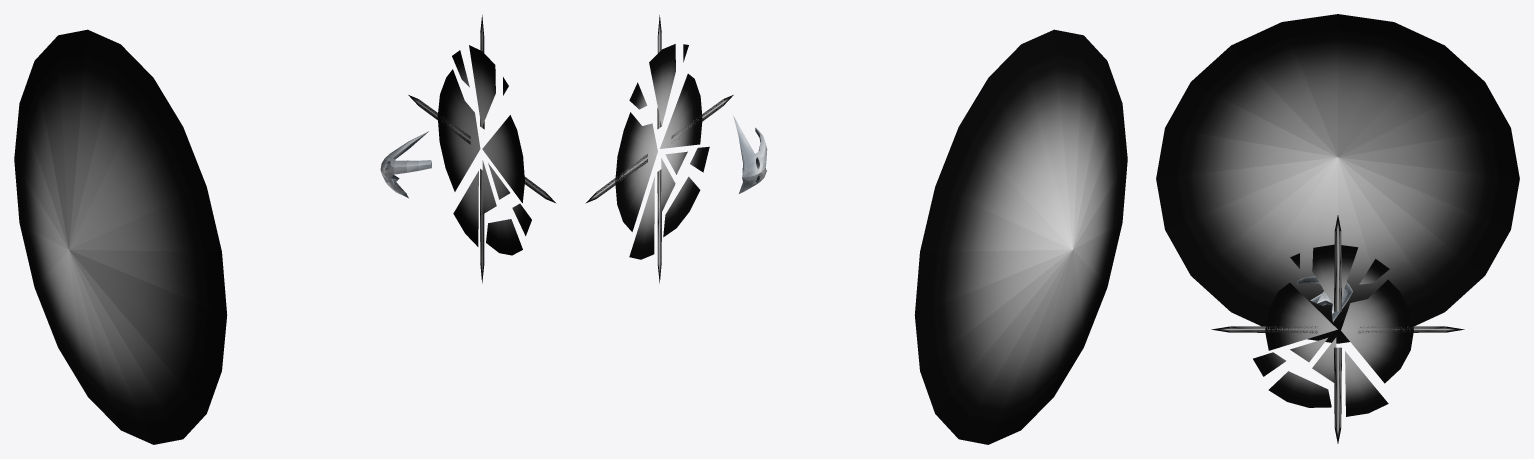
3 renders of one model, left to right at view 1: azimuth 30°, elevation 25°; view 2: azimuth 150°, elevation 25°; view 3: azimuth 270°, elevation 25°, orthographic. The views are drawn at different scales.
Visible parts, largest first — view 1: B_0156_1b_1, B_0156_1b_0; view 2: B_0156_1b_1, B_0156_1b_0; view 3: B_0156_1b_1, B_0156_1b_0.
Part boxes in pixels (bbox=[...]): B_0156_1b_1: bbox=[14, 15, 556, 444]; B_0156_1b_0: bbox=[380, 131, 431, 198]; B_0156_1b_1: bbox=[585, 15, 1127, 444]; B_0156_1b_0: bbox=[733, 116, 767, 193]; B_0156_1b_1: bbox=[1156, 14, 1519, 443]; B_0156_1b_0: bbox=[1297, 276, 1352, 321].
Size of the model in its own units: 4.33 by 3.86 by 3.86.
Materials: 2 (2 with a texture image).
